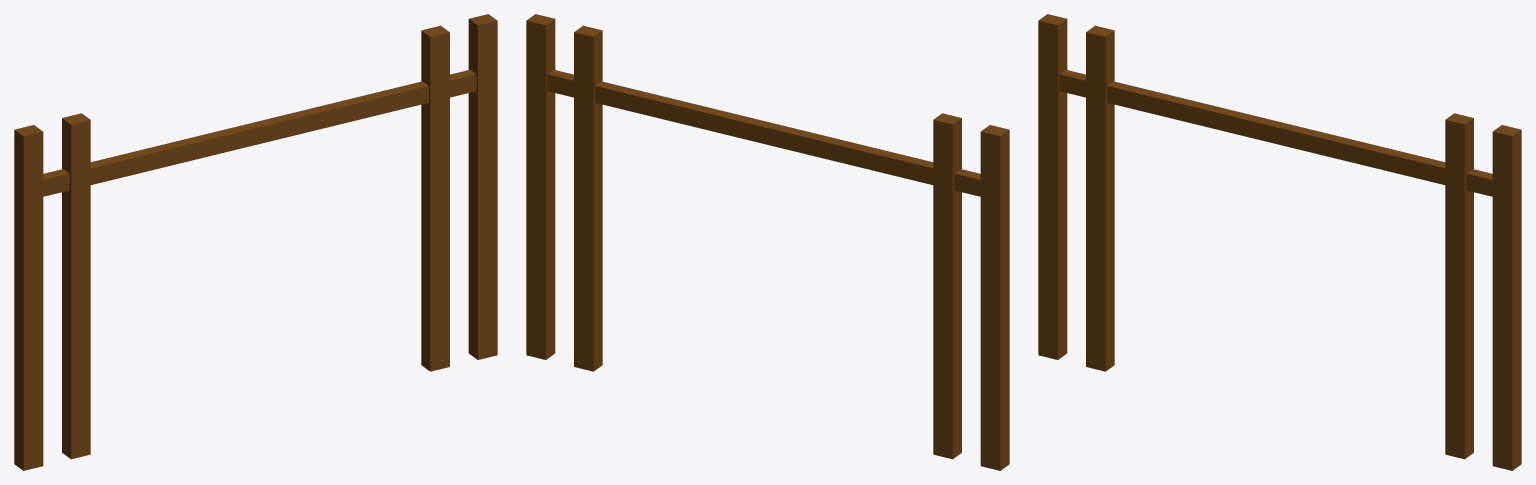
The model's file is Asian_Prop_Building_Rafters_Beams_Frame_02.FBX.
3 views of the same model, side by side, from view 1: azimuth 30°, elevation 25°; view 2: azimuth 150°, elevation 25°; view 3: azimuth 330°, elevation 25° (orthographic).
Visible parts, largest first — view 1: Asian_Prop_Building_Rafters_Beams_Frame_02; view 2: Asian_Prop_Building_Rafters_Beams_Frame_02; view 3: Asian_Prop_Building_Rafters_Beams_Frame_02.
Part boxes in pixels (x1,y1,x2,y2): Asian_Prop_Building_Rafters_Beams_Frame_02: (14, 14, 497, 470); Asian_Prop_Building_Rafters_Beams_Frame_02: (526, 14, 1009, 470); Asian_Prop_Building_Rafters_Beams_Frame_02: (1038, 14, 1521, 470).
Size of the model in its own units: 5167 by 3485 by 173.
